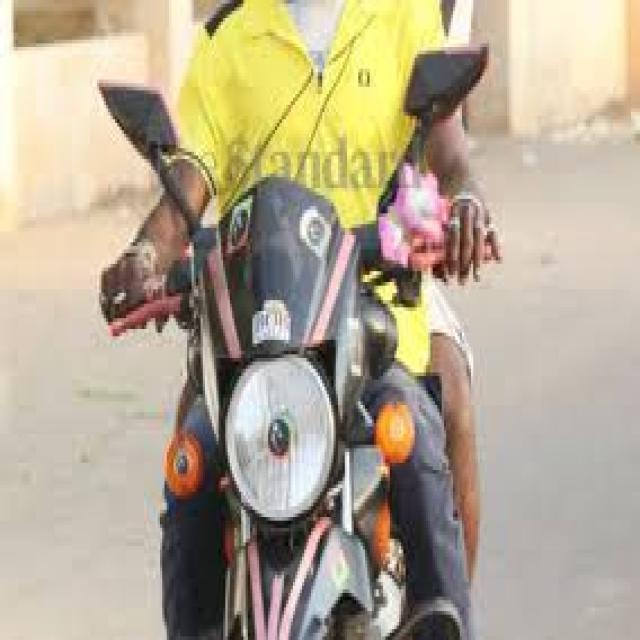bodaboda: (84, 38, 534, 640)
